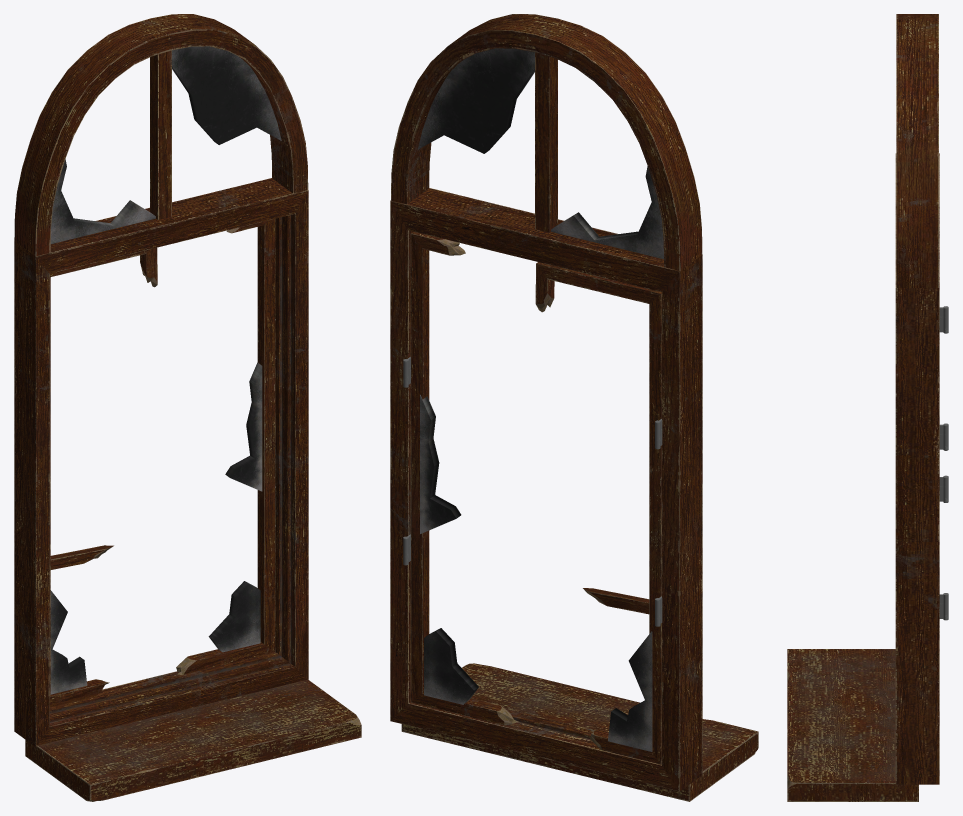
File: sm21_028_brokenwindow01a.fbx
3 views of the same model, side by side, from view 1: azimuth 30°, elevation 25°; view 2: azimuth 150°, elevation 25°; view 3: azimuth 270°, elevation 25° (orthographic). The views are drawn at different scales.
Parts seen in each view (by area): view 1: LOD_1_Group_0_Sub_1__st2_police1fLeftWindow01, LOD_1_Group_1_Sub_1__st2_police1fLeftWindow01_G; view 2: LOD_1_Group_0_Sub_1__st2_police1fLeftWindow01, LOD_1_Group_1_Sub_1__st2_police1fLeftWindow01_G; view 3: LOD_1_Group_0_Sub_1__st2_police1fLeftWindow01.
Part boxes in pixels (x1,y1,x2,y2): LOD_1_Group_0_Sub_1__st2_police1fLeftWindow01: [14, 14, 361, 801]; LOD_1_Group_1_Sub_1__st2_police1fLeftWindow01_G: [50, 46, 281, 694]; LOD_1_Group_0_Sub_1__st2_police1fLeftWindow01: [390, 14, 758, 801]; LOD_1_Group_1_Sub_1__st2_police1fLeftWindow01_G: [418, 48, 663, 751]; LOD_1_Group_0_Sub_1__st2_police1fLeftWindow01: [787, 14, 948, 801].
Size of the model in its own units: 90.43 by 221 by 45.78.
